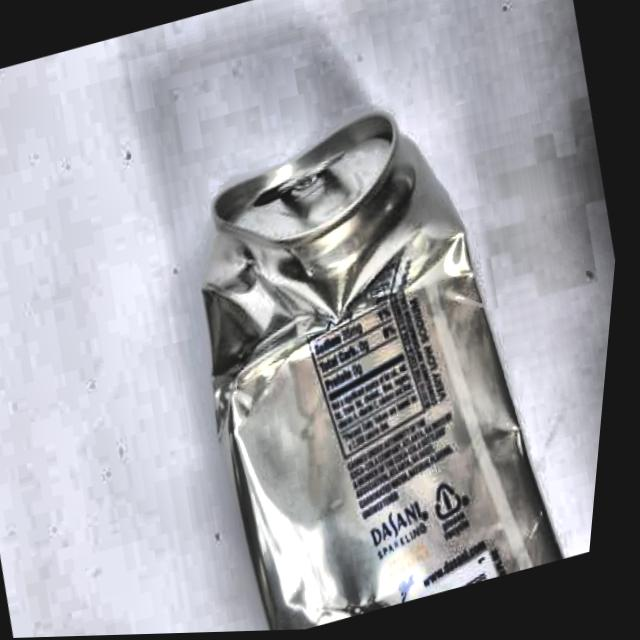Cans: (106, 47, 628, 636)
